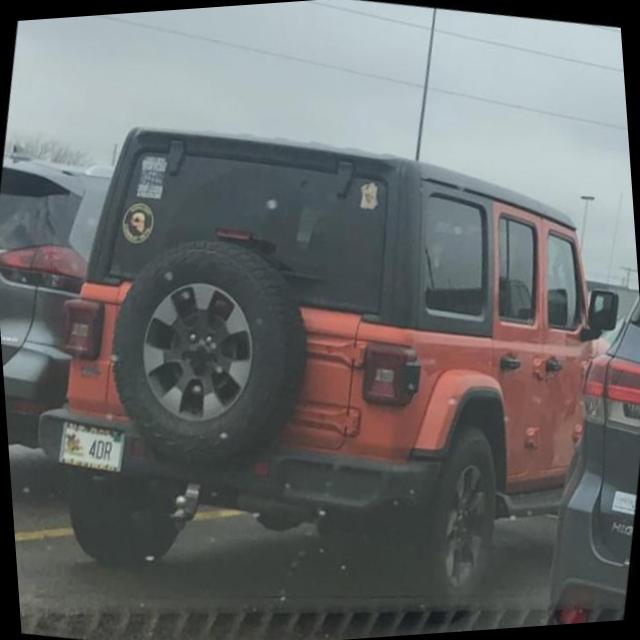LicensePlate: (56, 419, 124, 473)
